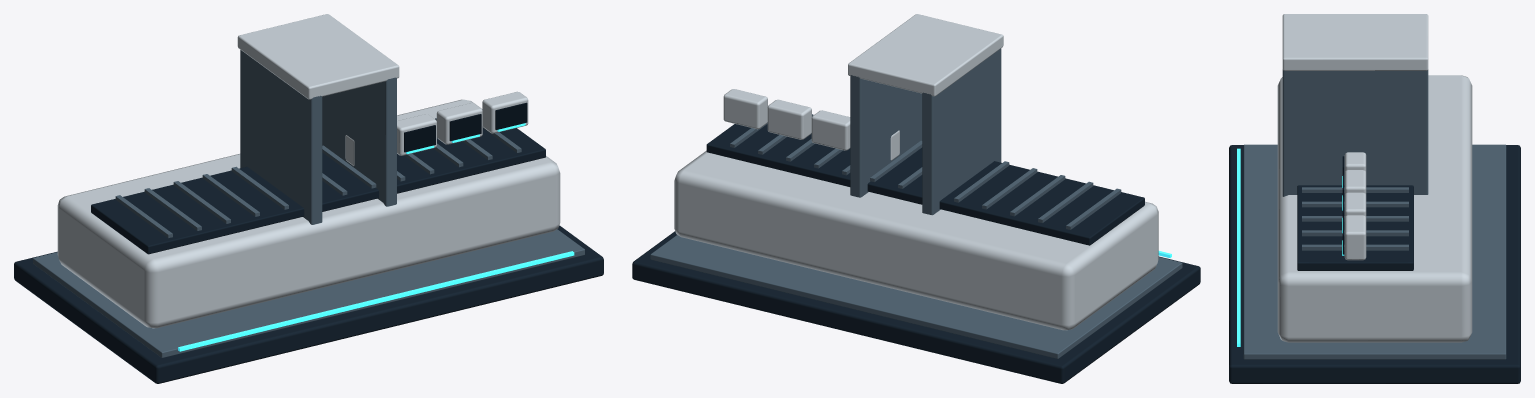
File: tokenizer-bench.glb
The picture shows the model from 3 angles, left to right: view 1: azimuth 30°, elevation 25°; view 2: azimuth 150°, elevation 25°; view 3: azimuth 270°, elevation 25°; orthographic projection. The views are drawn at different scales.
Visible parts, largest first — view 1: housing, base, scanner_pillar (×2), conveyor, inlay, scanner_top, body (×3), status_strip, text_face (×3); view 2: housing, base, scanner_pillar (×2), inlay, conveyor, scanner_top, body (×3); view 3: housing, inlay, scanner_pillar, base, scanner_top, conveyor, roller (×5), body (×4), status_strip.
Boxes of the visible parts, box(x1,y1,x2,y2) form: housing: box(57, 99, 560, 328); base: box(14, 225, 603, 383); scanner_pillar (×2): box(240, 50, 396, 224); conveyor: box(91, 128, 545, 254); inlay: box(33, 229, 584, 357); scanner_top: box(237, 14, 399, 99); body (×3): box(397, 91, 528, 155); status_strip: box(178, 251, 574, 351); text_face (×3): box(404, 102, 527, 152); housing: box(674, 150, 1158, 330); base: box(632, 231, 1200, 383); scanner_pillar (×2): box(850, 48, 1001, 215); inlay: box(650, 235, 1182, 358); conveyor: box(706, 124, 1144, 245); scanner_top: box(848, 14, 1003, 96); body (×3): box(723, 89, 850, 150); housing: box(1277, 75, 1472, 342); inlay: box(1243, 144, 1506, 359); scanner_pillar: box(1282, 69, 1428, 196); base: box(1229, 145, 1520, 383); scanner_top: box(1282, 14, 1428, 70); conveyor: box(1297, 185, 1413, 270); roller (×5): box(1302, 187, 1408, 250); body (×4): box(1344, 152, 1366, 260); status_strip: box(1237, 148, 1240, 346).
Bounding box in the file's own units: 5.4 × 2.71 × 3.
